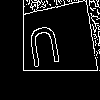U: (25, 24, 65, 77)
